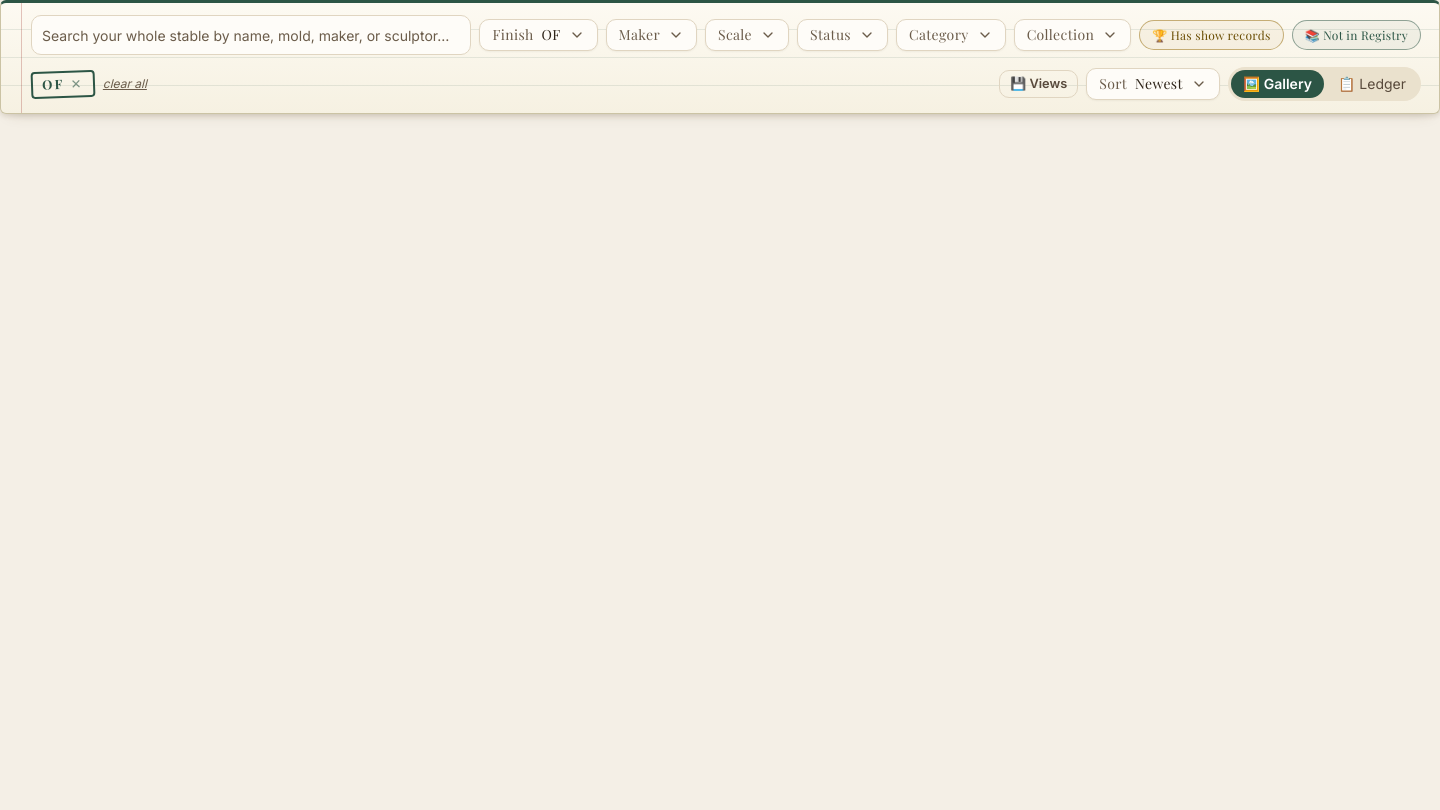
Scenario: StableFilterBar › saves the current filters as a named view
The width and height of the screenshot is (1440, 810).
Click the button "💾 Views" at (1039,84), box [999,70,1078,98]
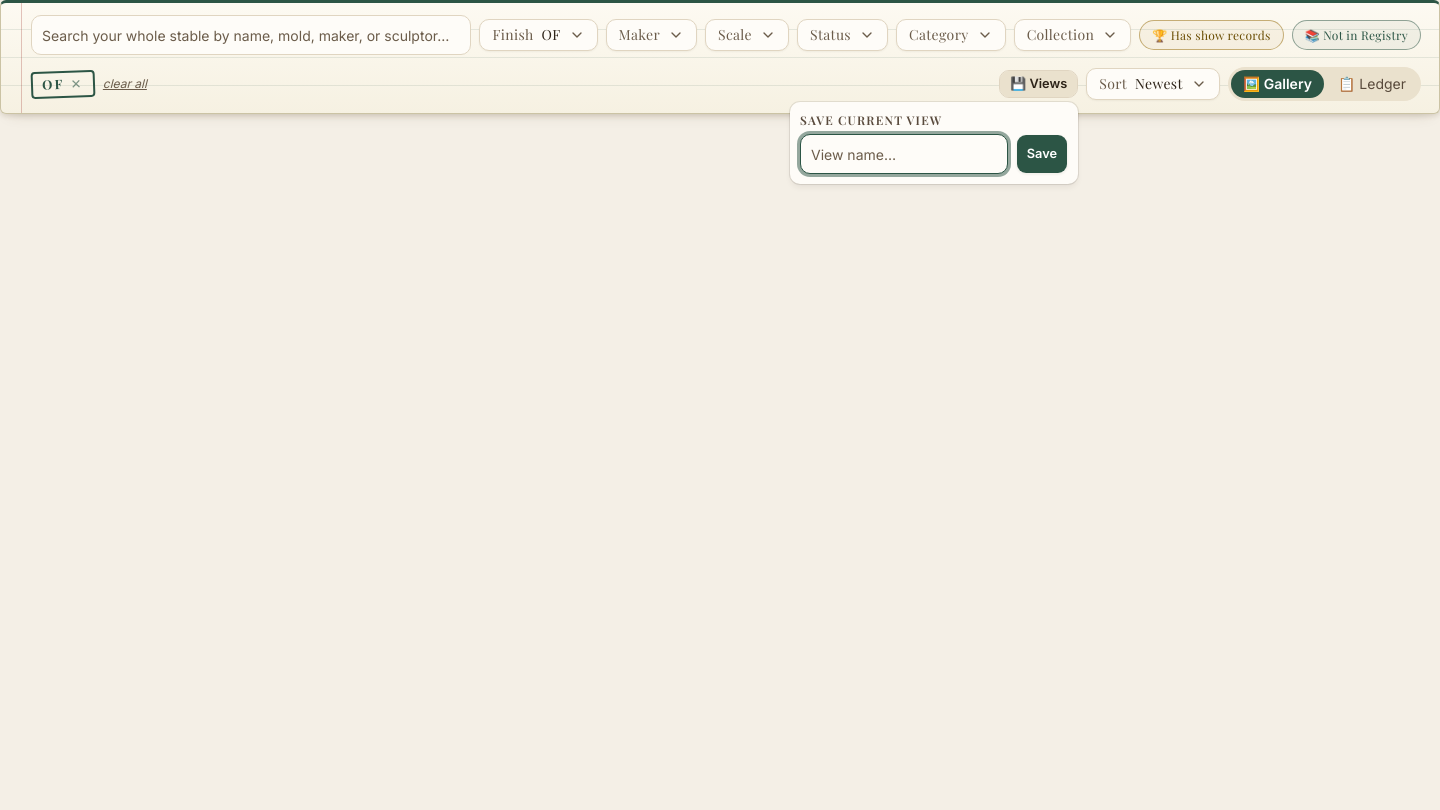
Type "My View" into the field with placeholder "View name…" at (904,154), box [800,134,1008,174]
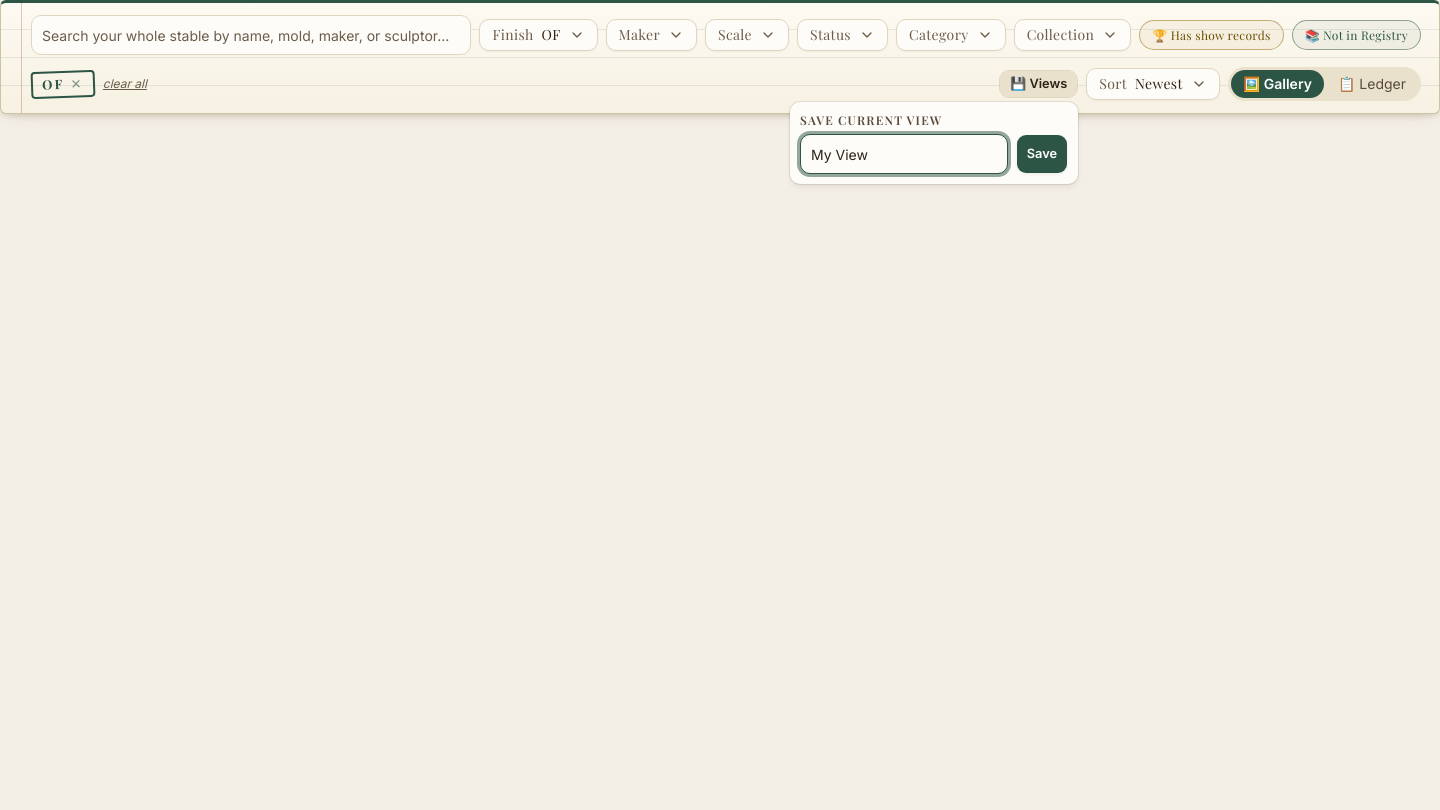
Click the button "Save" at (1042,154), box [1016,134,1068,174]
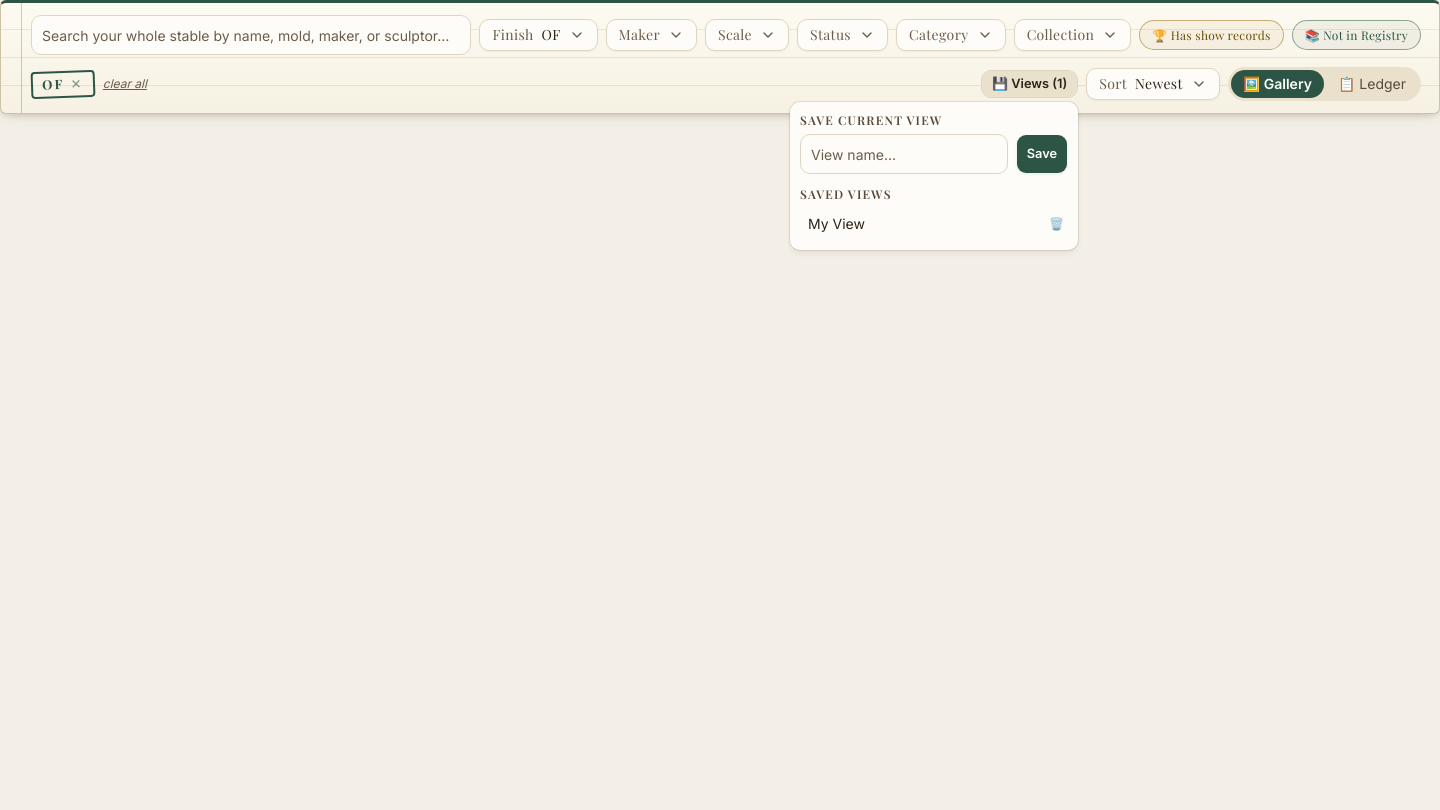
Now the button "My View" is shown, box [800,208,1037,240]
